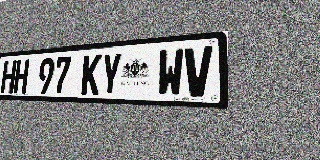7: (52, 56, 72, 94)
9: (37, 57, 55, 94)
H: (13, 59, 30, 93), (0, 60, 17, 93)
K: (80, 54, 102, 95)
V: (183, 46, 213, 97)
W: (157, 48, 184, 96)
Y: (99, 53, 122, 95)
